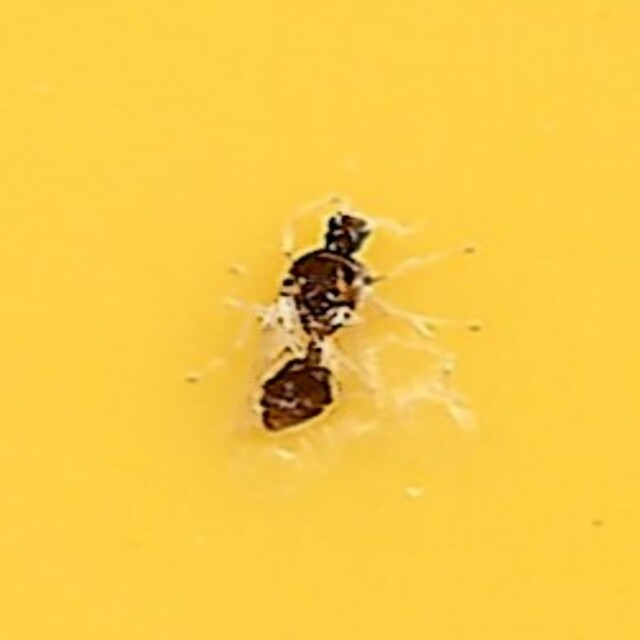Hymenoptera: (255, 207, 385, 433)
